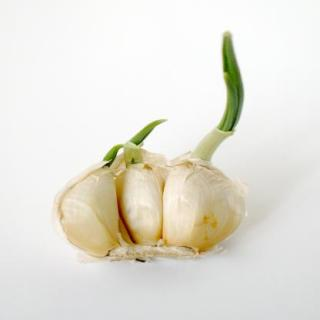Bawang Putih: (56, 151, 249, 259)
